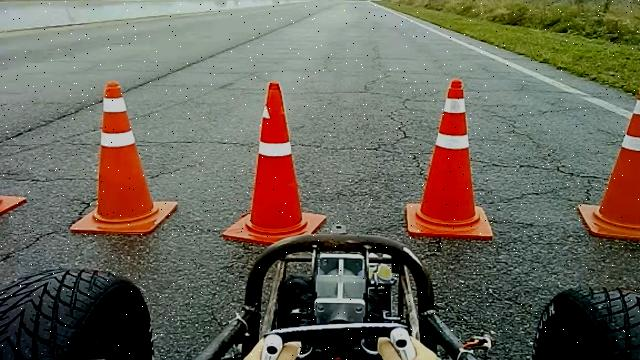red cone: (222, 80, 327, 246), (70, 80, 178, 236), (406, 77, 494, 240), (578, 83, 640, 243)
